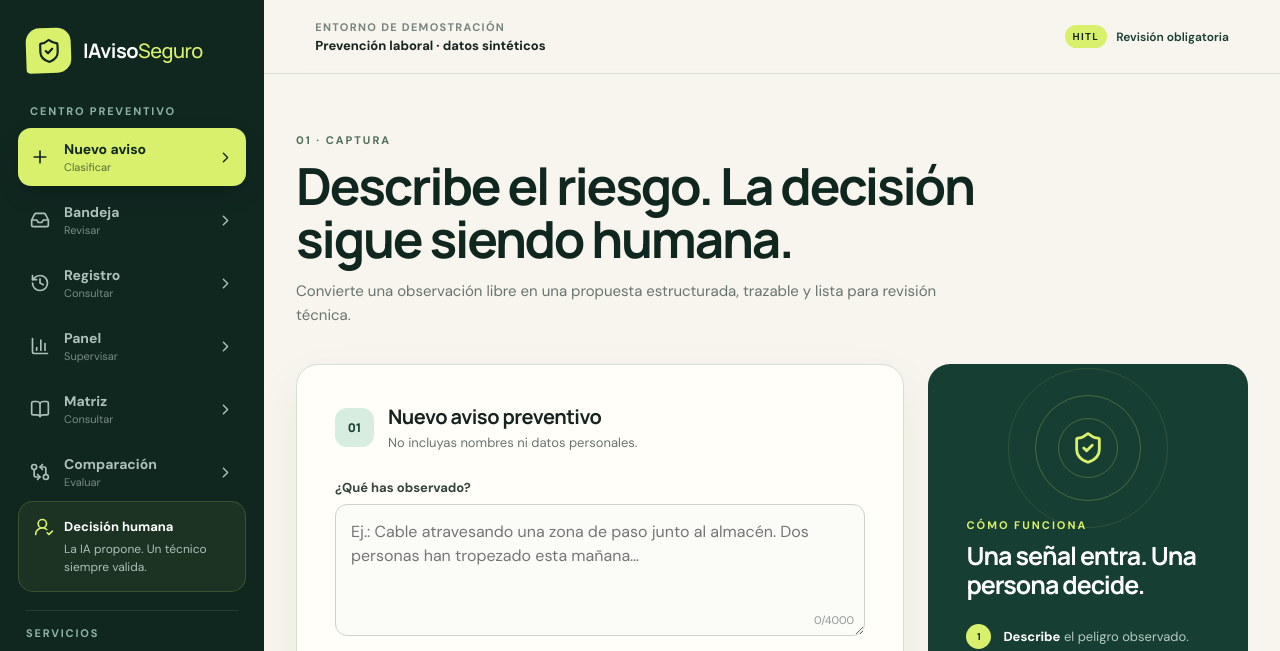
Scenario: IAviso Seguro › separa prioridad de revisión e incertidumbre sin mostrar confianza
Type "Cable expuesto en el taller." into the text box labelled "¿Qué has observado?" at (600, 570), box top-left (335, 504), bottom-right (865, 636)
(page scrolled)
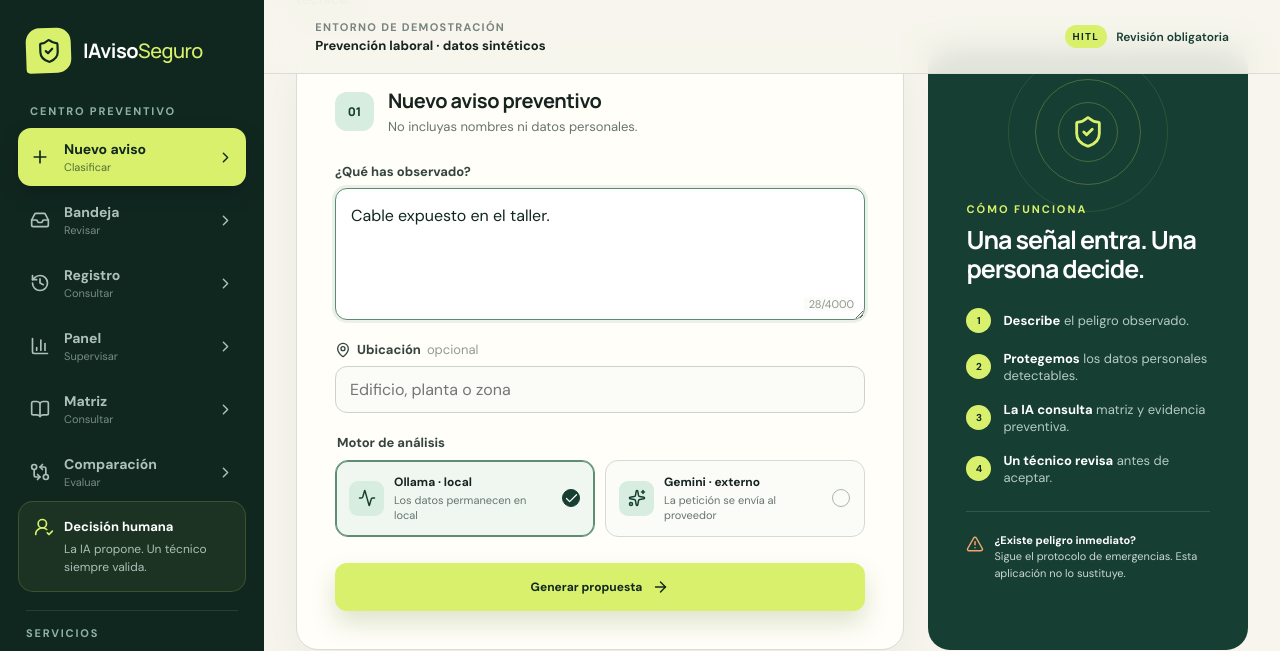
Click the button "Generar propuesta" at (600, 587), box top-left (335, 563), bottom-right (865, 611)
(page scrolled)
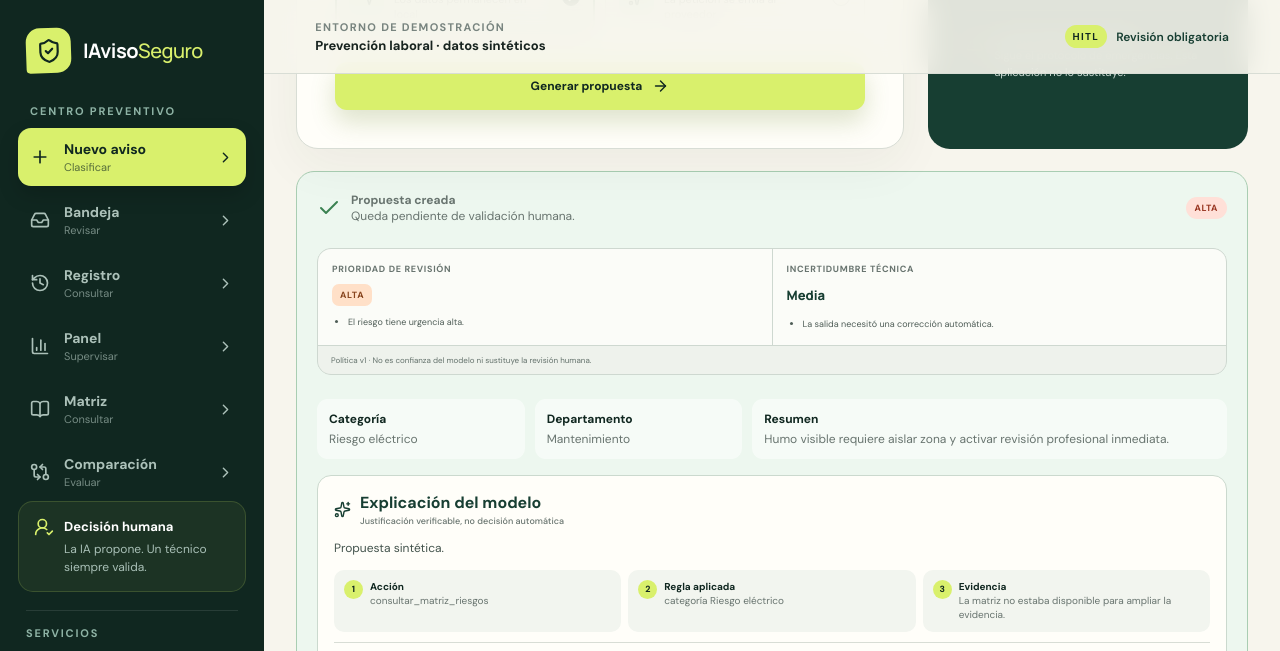
Expected: the text "Prioridad de revisión" is shown, top-left (332, 263), bottom-right (451, 275)
Expected: the text "Incertidumbre técnica" is shown, top-left (786, 263), bottom-right (914, 275)
Expected: the list item "La salida necesitó una corrección automática." is shown, top-left (802, 318), bottom-right (994, 330)
